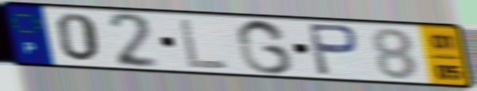0: (54, 11, 101, 64)
2: (106, 9, 162, 71)
8: (368, 26, 421, 82)
G: (234, 18, 297, 77)
L: (177, 16, 232, 71)
P: (305, 21, 363, 78)
